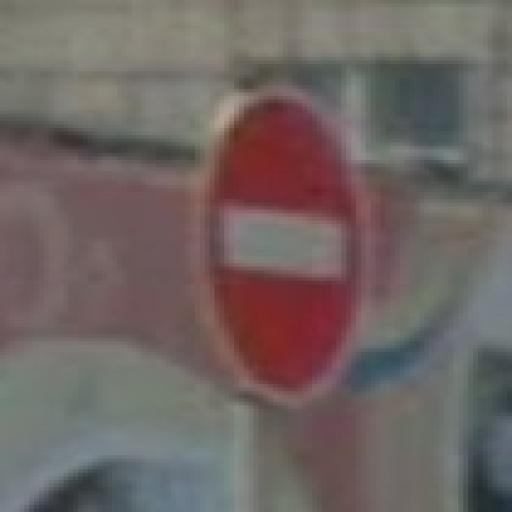traffic_sign: (201, 90, 372, 410)
